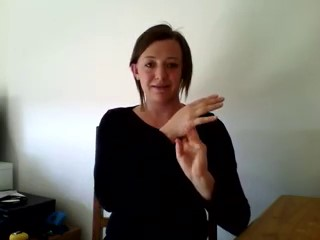M: (172, 90, 229, 180)
